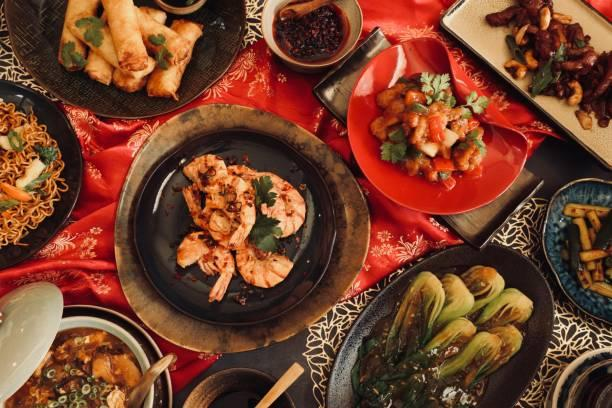Braised Crucian Carp: (113, 103, 366, 352), (324, 244, 556, 405), (350, 42, 525, 214), (441, 1, 610, 174), (7, 0, 245, 118)
